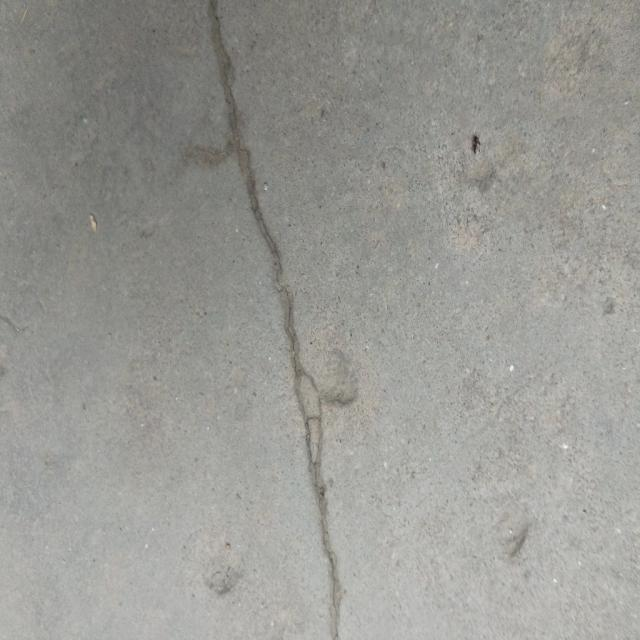cracks: (194, 0, 364, 640)
